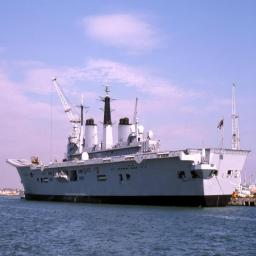Portanaves: (7, 93, 256, 211)
